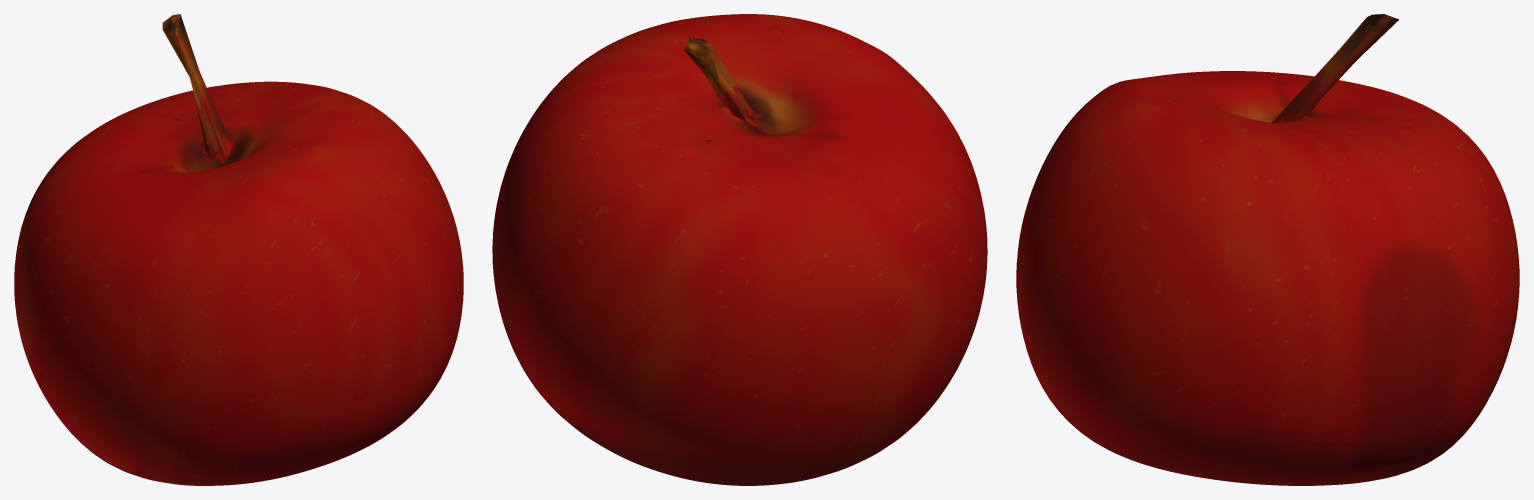
File: gala-apple.glb
The picture shows the model from 3 angles, left to right: view 1: azimuth 30°, elevation 25°; view 2: azimuth 150°, elevation 25°; view 3: azimuth 270°, elevation 25°; orthographic projection. The views are drawn at different scales.
Parts seen in each view (by area): view 1: Sphere; view 2: Sphere; view 3: Sphere.
Boxes of the visible parts, box(x1,y1,x2,y2) form: Sphere: box(14, 14, 463, 485); Sphere: box(492, 14, 987, 485); Sphere: box(1016, 14, 1519, 485).
Bounding box in the file's own units: 2 × 1.96 × 2.
Materials: 1 (1 with a texture image).
